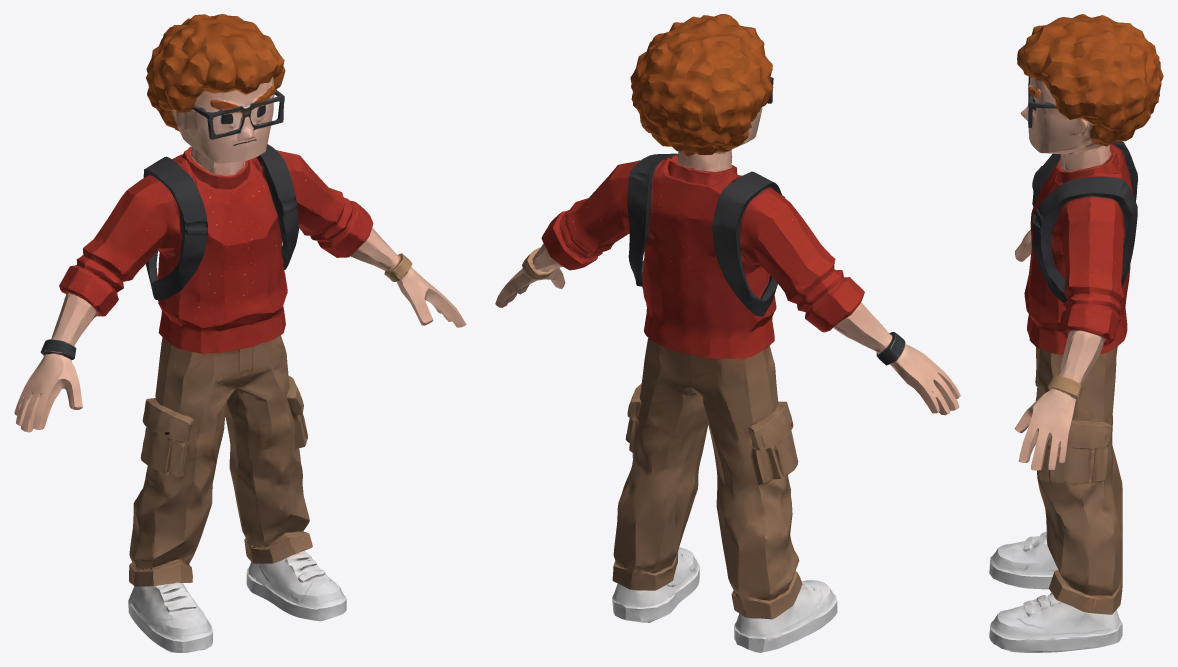
File: ethan.glb
3 renders of one model, left to right at view 1: azimuth 30°, elevation 25°; view 2: azimuth 150°, elevation 25°; view 3: azimuth 270°, elevation 25°, orthographic. The views are drawn at different scales.
Parts seen in each view (by area): view 1: Mesh; view 2: Mesh; view 3: Mesh.
Part boxes in pixels (<box>): Mesh: <box>14,14,466,652</box>; Mesh: <box>495,14,960,652</box>; Mesh: <box>989,14,1163,652</box>.
Size of the model in its own units: 1.35 by 1.71 by 0.4588.
1 material, 1 textured.
